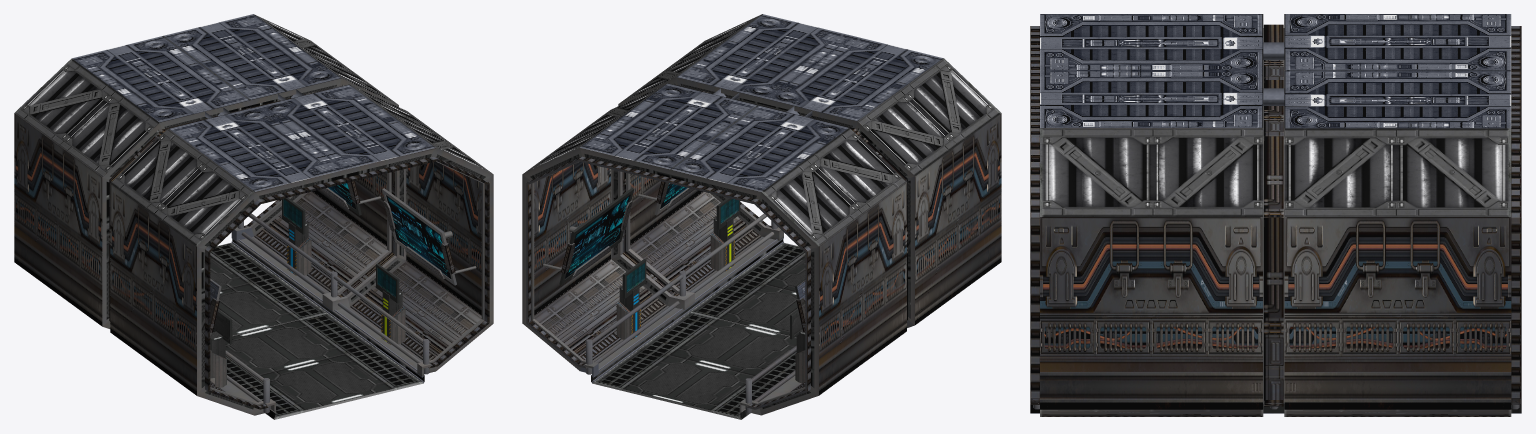
Rendered from Finish_Point-3.FBX.
3 renders of one model, left to right at view 1: azimuth 30°, elevation 25°; view 2: azimuth 150°, elevation 25°; view 3: azimuth 270°, elevation 25°, orthographic. The views are drawn at different scales.
Parts seen in each view (by area): view 1: Finish_Point-3; view 2: Finish_Point-3; view 3: Finish_Point-3.
Part boxes in pixels (x1=…): Finish_Point-3: x1=14, y1=14, x2=493, y2=419; Finish_Point-3: x1=522, y1=14, x2=1001, y2=419; Finish_Point-3: x1=1030, y1=14, x2=1521, y2=416.
Bounding box in the file's own units: 8090 × 5977 × 8999.
1 material, 1 textured.
